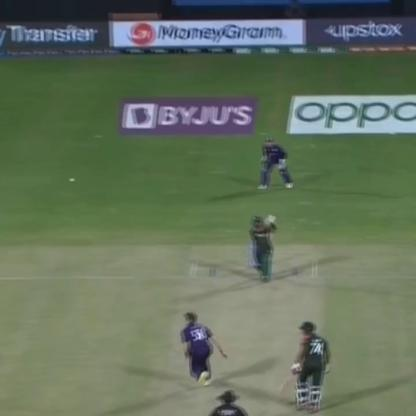ball: (65, 172, 80, 187)
pitch: (179, 238, 322, 416)
